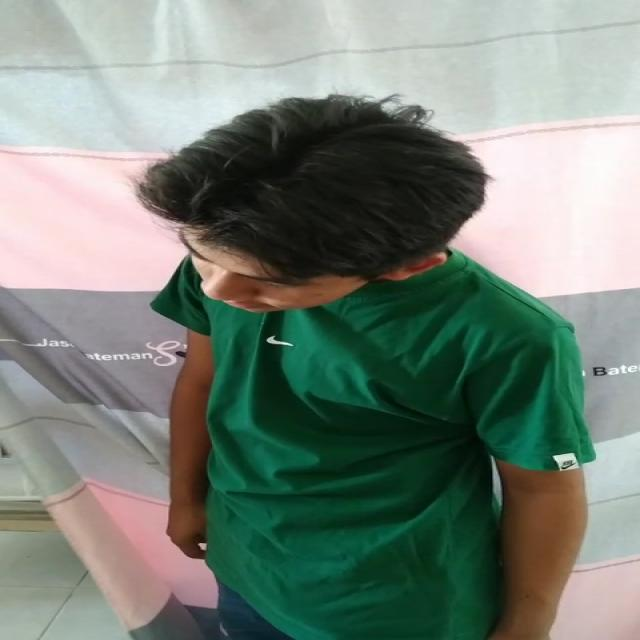9_cabeza_baja: (135, 94, 488, 314)
